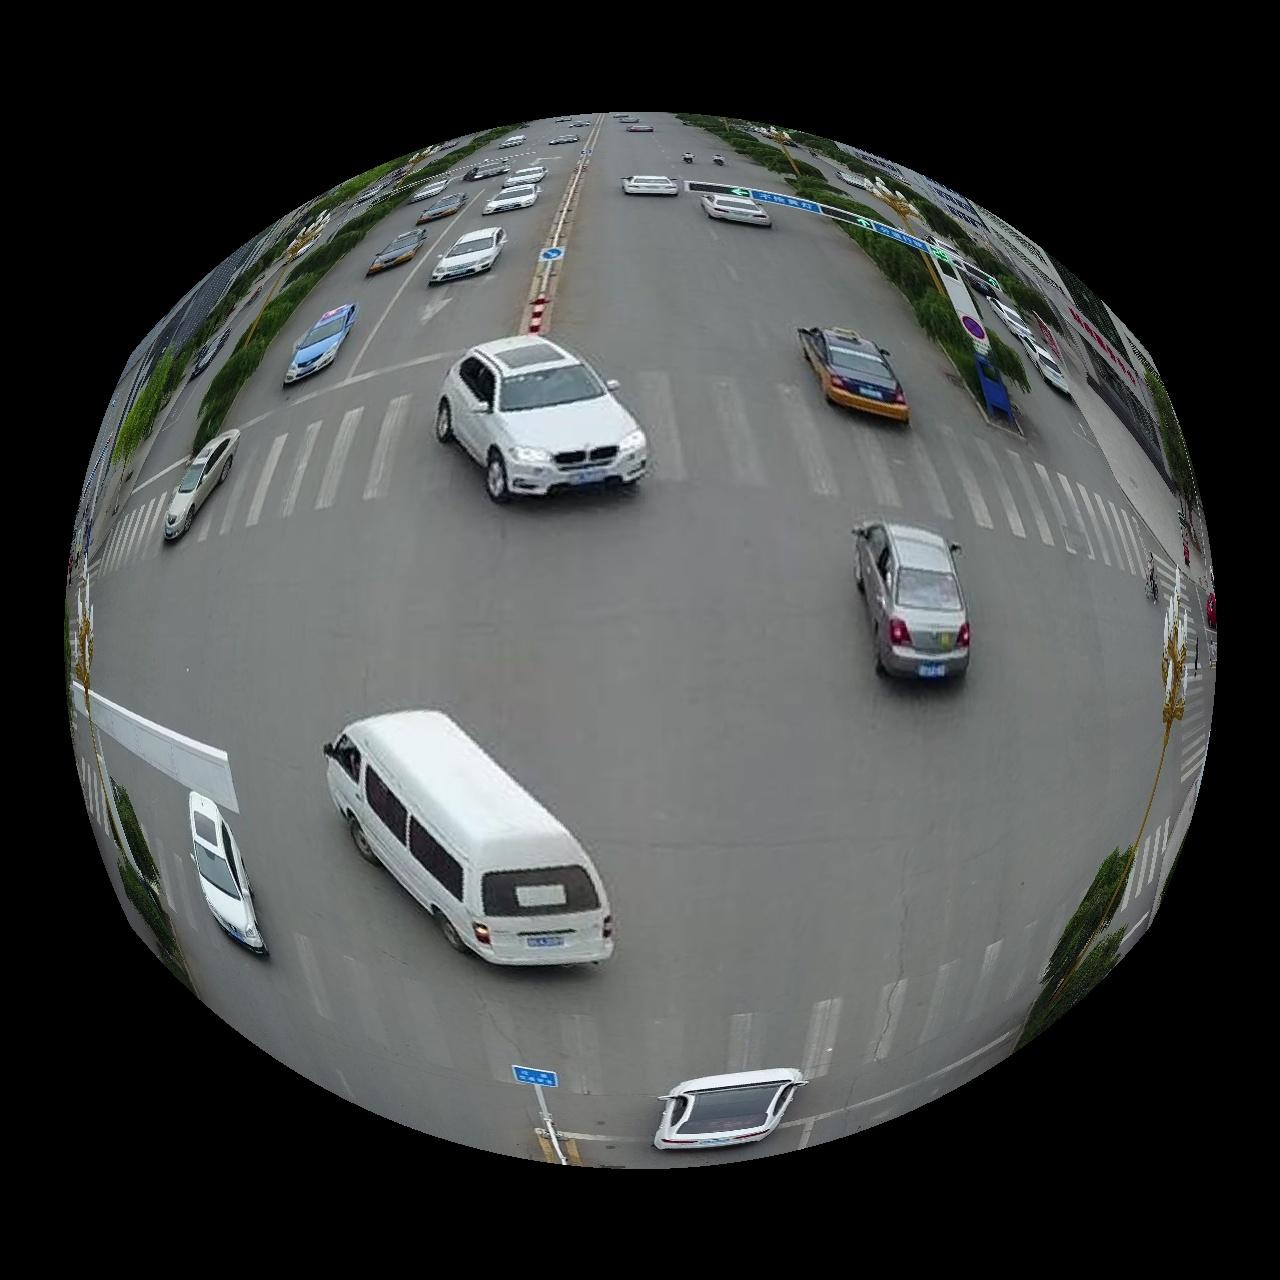cars: (324, 712, 614, 967), (434, 335, 651, 502), (855, 519, 973, 680), (188, 791, 267, 956), (655, 1070, 809, 1153), (799, 328, 910, 422), (162, 428, 240, 542), (282, 302, 358, 384), (430, 227, 508, 282), (366, 227, 427, 275), (703, 191, 772, 225), (482, 182, 539, 213), (416, 191, 467, 224), (622, 173, 680, 195), (463, 158, 510, 181), (408, 178, 450, 202), (505, 164, 549, 186)
trees: (842, 222, 982, 397), (678, 113, 881, 218), (1137, 349, 1210, 553), (264, 159, 400, 265), (1019, 928, 1128, 1050), (1044, 849, 1133, 990), (287, 196, 399, 279), (234, 267, 325, 354), (176, 278, 251, 377), (110, 346, 173, 463), (198, 327, 272, 425), (110, 781, 158, 892), (115, 856, 172, 945), (154, 938, 192, 994)
